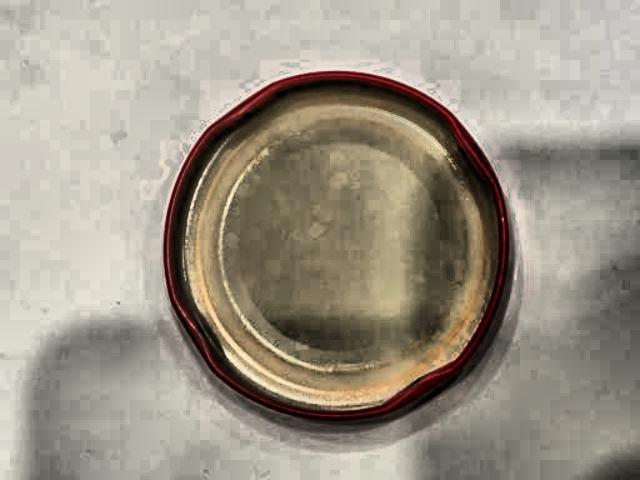Almennt: (147, 68, 531, 435)
